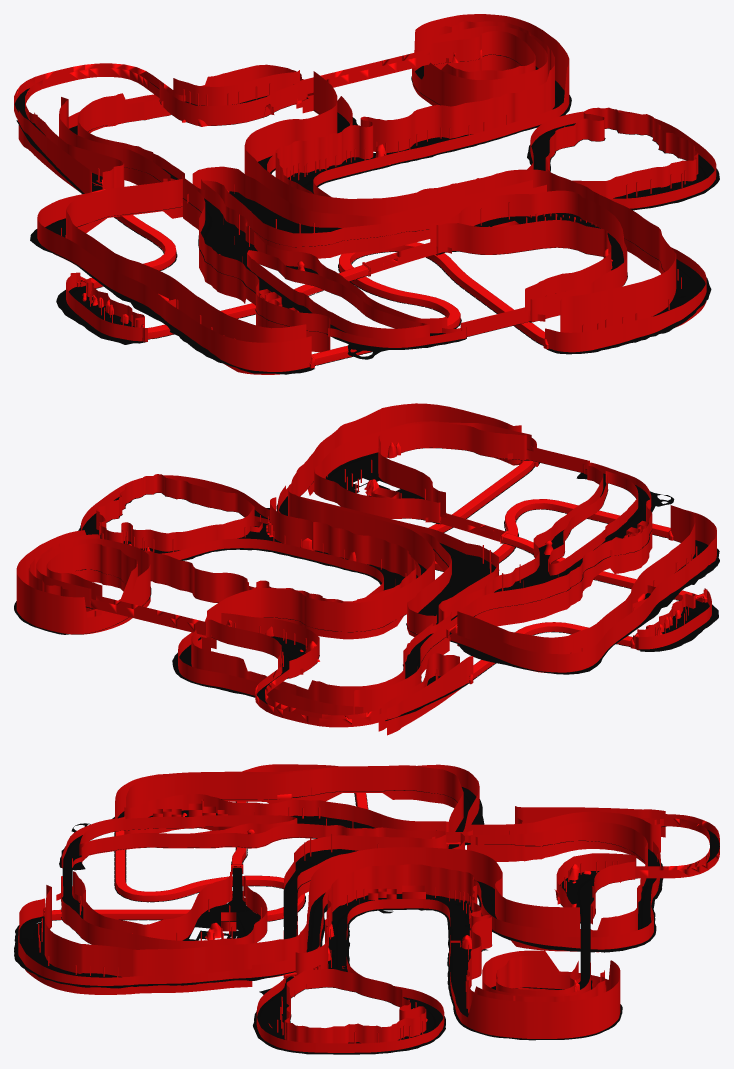
File: colmesh.fbx
3 views of the same model, one above another, from view 1: azimuth 30°, elevation 25°; view 2: azimuth 150°, elevation 25°; view 3: azimuth 270°, elevation 25° (orthographic). The views are drawn at different scales.
Parts seen in each view (by area): view 1: Mesh, Mesh_ncl1_2, Mesh_ncl1_1; view 2: Mesh, Mesh_ncl1_2, Mesh_ncl1_1; view 3: Mesh, Mesh_ncl1_2, Mesh_ncl1_1.
Part boxes in pixels (left/top/right/bottom): Mesh: left=14, top=14, right=716, bottom=374; Mesh_ncl1_2: left=16, top=54, right=719, bottom=374; Mesh_ncl1_1: left=14, top=66, right=713, bottom=351; Mesh: left=16, top=403, right=716, bottom=735; Mesh_ncl1_2: left=14, top=447, right=719, bottom=720; Mesh_ncl1_1: left=82, top=454, right=711, bottom=705; Mesh: left=18, top=764, right=719, bottom=1052; Mesh_ncl1_2: left=14, top=787, right=666, bottom=1054; Mesh_ncl1_1: left=19, top=788, right=719, bottom=1033.
Bounding box in the file's own units: 50304 × 3968 × 53385.
